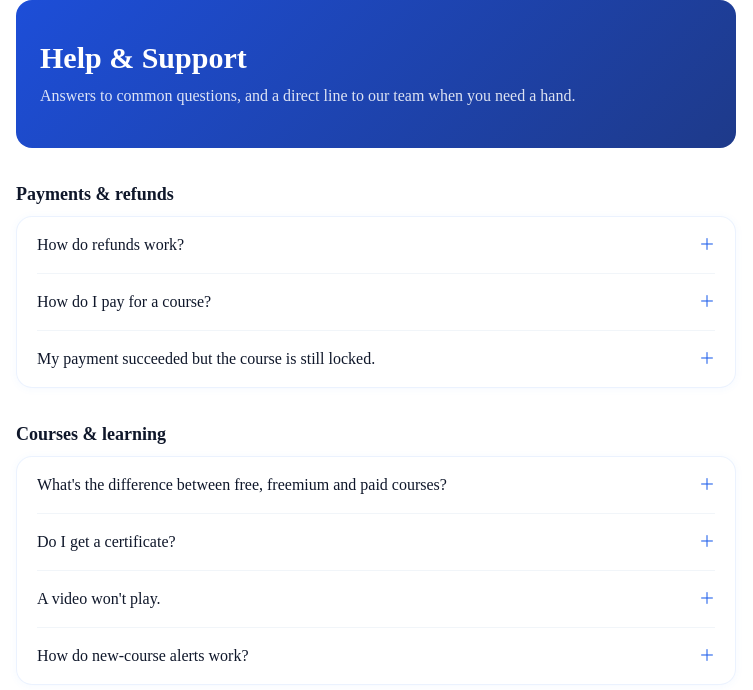
Test: Help page copy › a collapsed answer is invisible, so its links are not tab stops, and its button controls it
What coordinates should you click on to do the following:
click the button "Do I get a certificate? ＋"
I would click on:
 (106, 542)
Its box is [37,514,715,570].
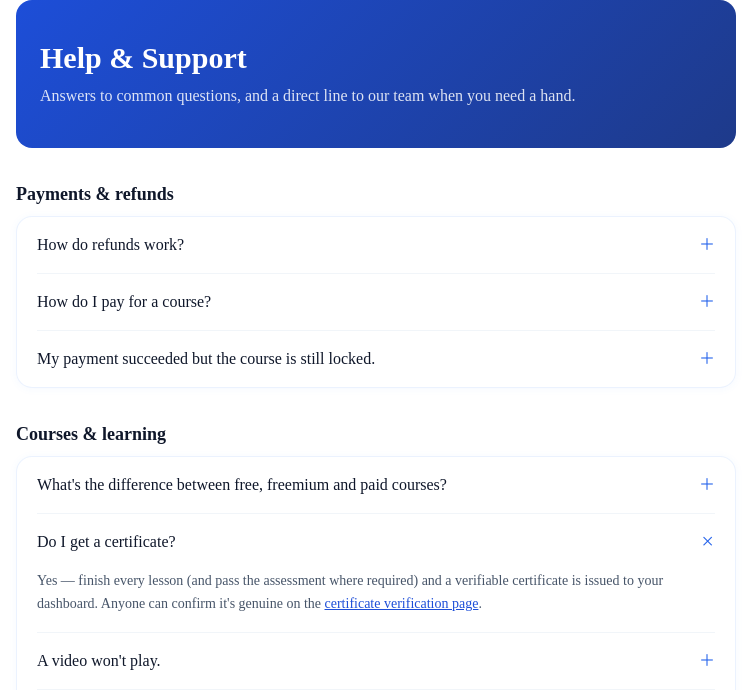
Check: the button "Do I get a certificate? ＋" is expanded, box [37,514,715,570]
